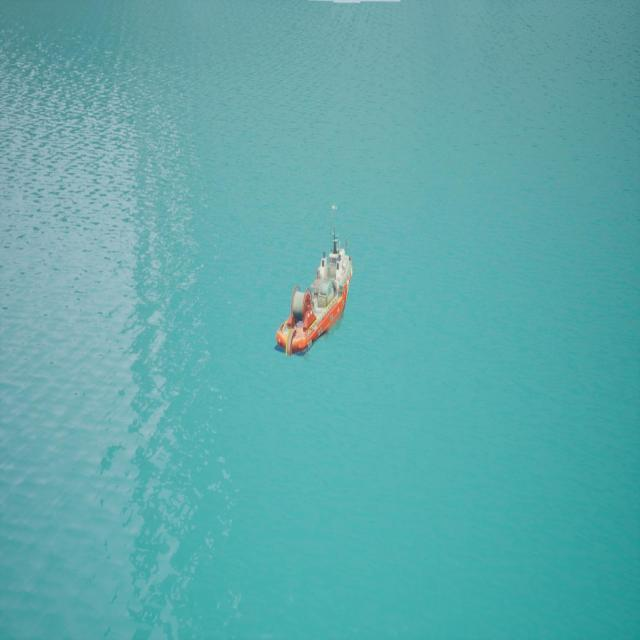tug boat: (293, 201, 354, 357)
